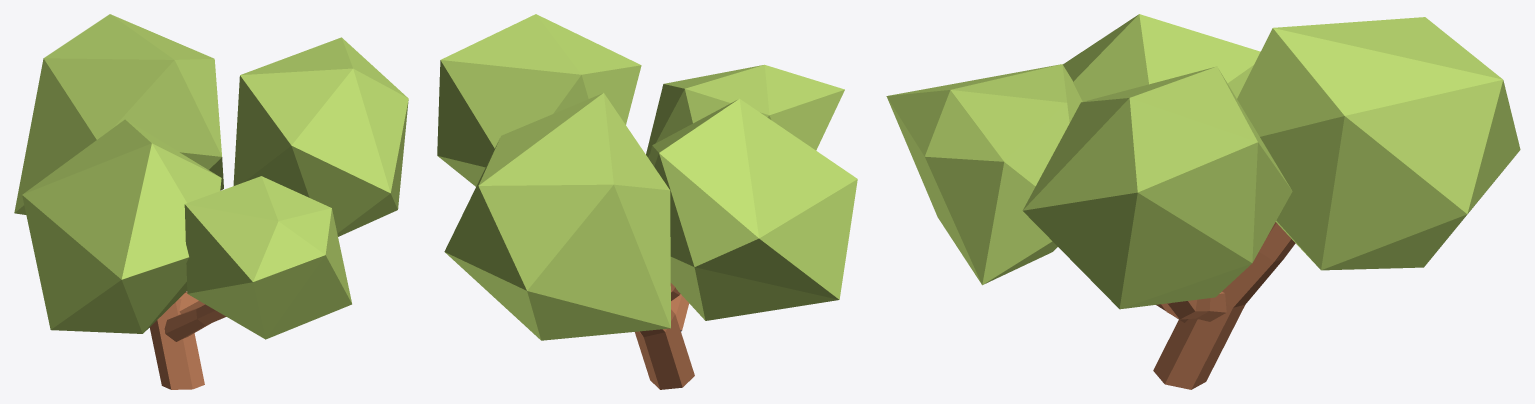
File: Bush_1.fbx
3 renders of one model, left to right at view 1: azimuth 30°, elevation 25°; view 2: azimuth 150°, elevation 25°; view 3: azimuth 270°, elevation 25°, orthographic. The views are drawn at different scales.
Visible parts, largest first — view 1: Cylinder; view 2: Cylinder; view 3: Cylinder.
Boxes of the visible parts, left/top/right/bottom form: Cylinder: left=14, top=14, right=408, bottom=389; Cylinder: left=437, top=14, right=857, bottom=389; Cylinder: left=886, top=14, right=1520, bottom=389.
Bounding box in the file's own units: 208 × 168 × 257.
